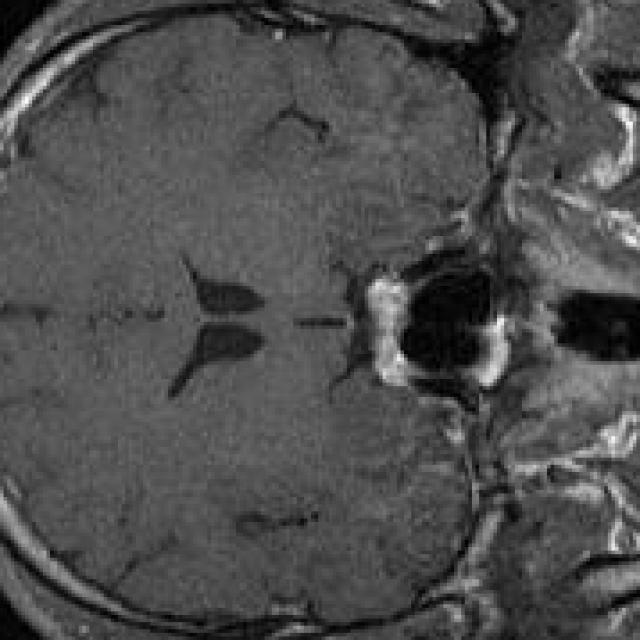pituitary: (368, 268, 422, 393)
